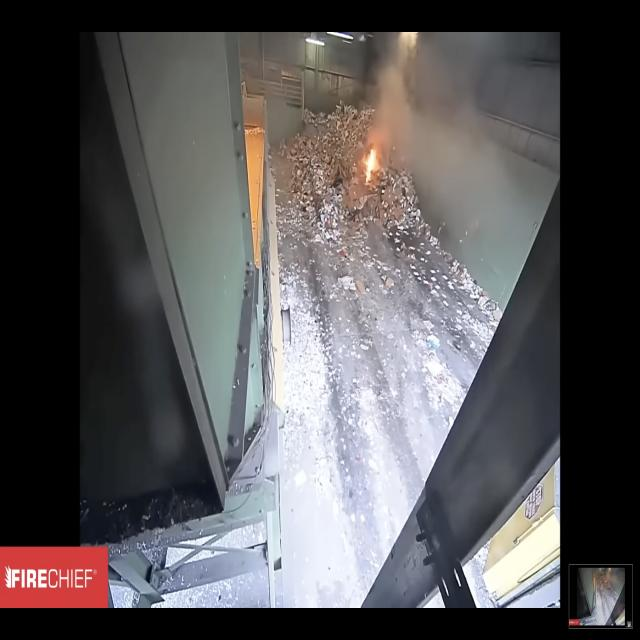Atencao: (327, 33, 543, 338)
Fogo: (356, 122, 396, 196)
